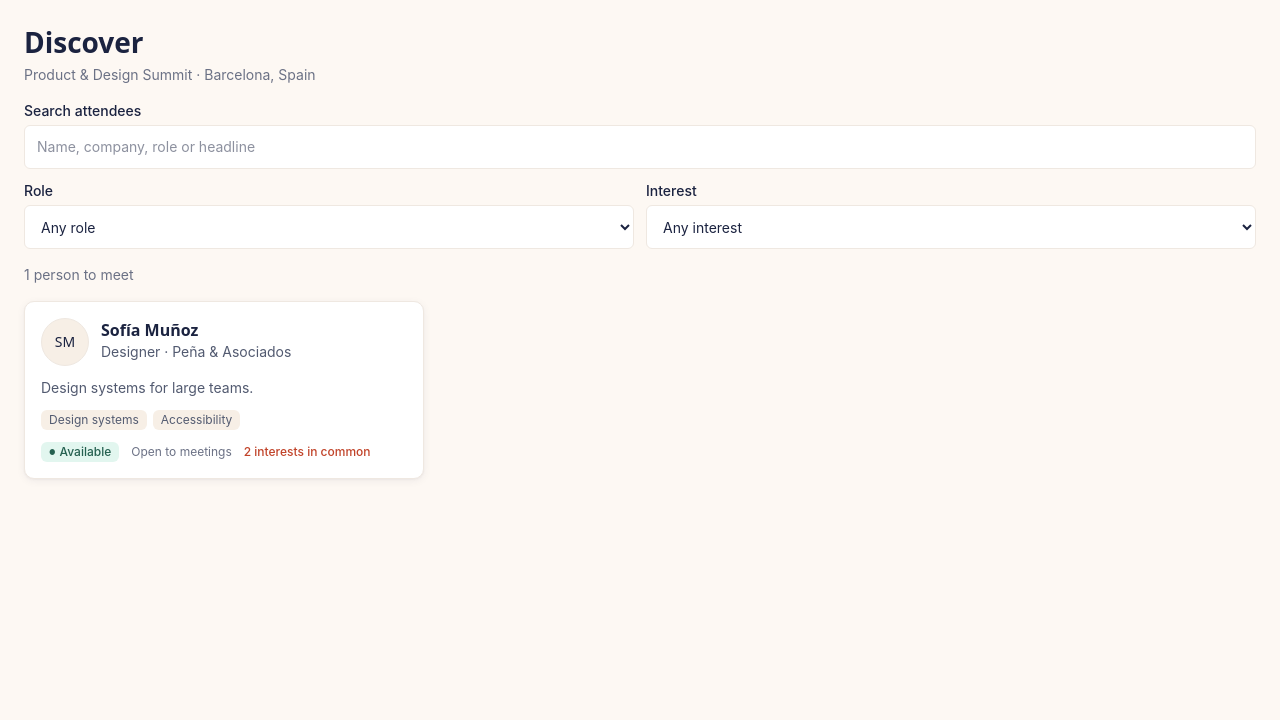
Test: Discover: narrowing goes to the server › sends role and interest as queries too, and states how many are applied
Expected: the heading "Sofía Muñoz" is shown, [101,319,198,341]
Step 1. Select "Designer" in the dropdown labelled "Role" → (329, 227), box [24,205,634,249]
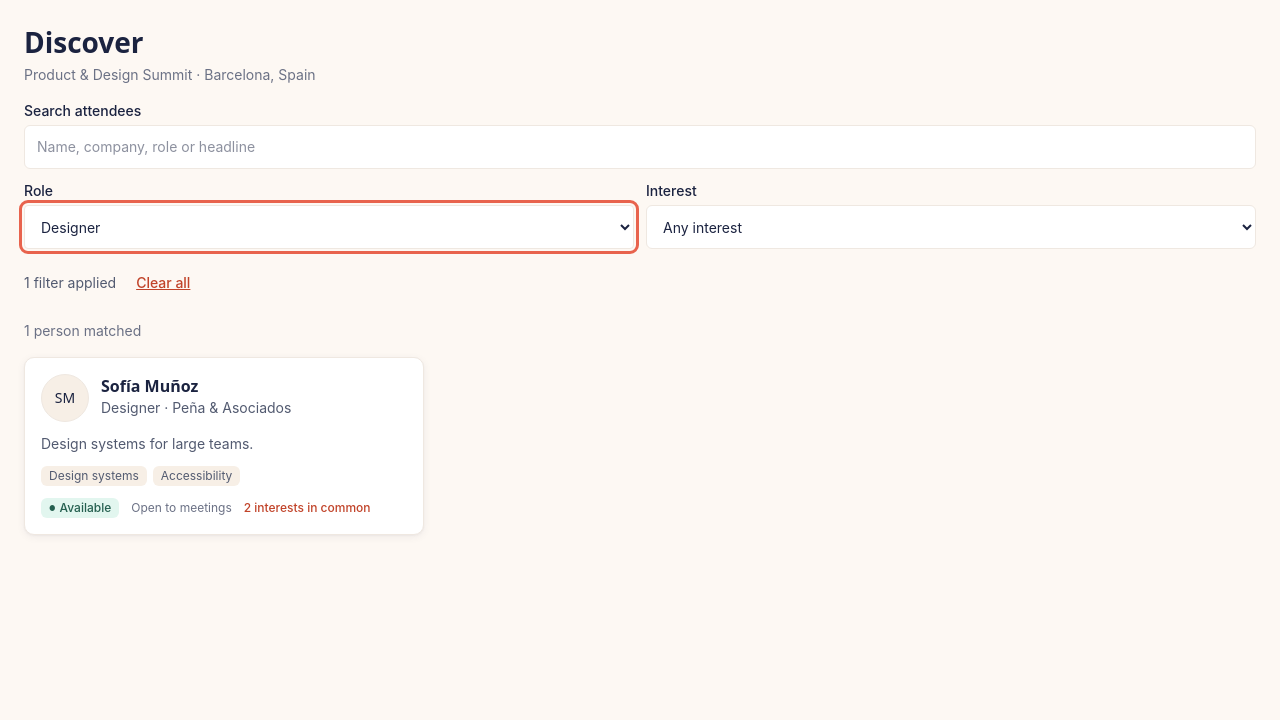
Now the text "1 filter applied" is shown, box [24,273,116,293]
